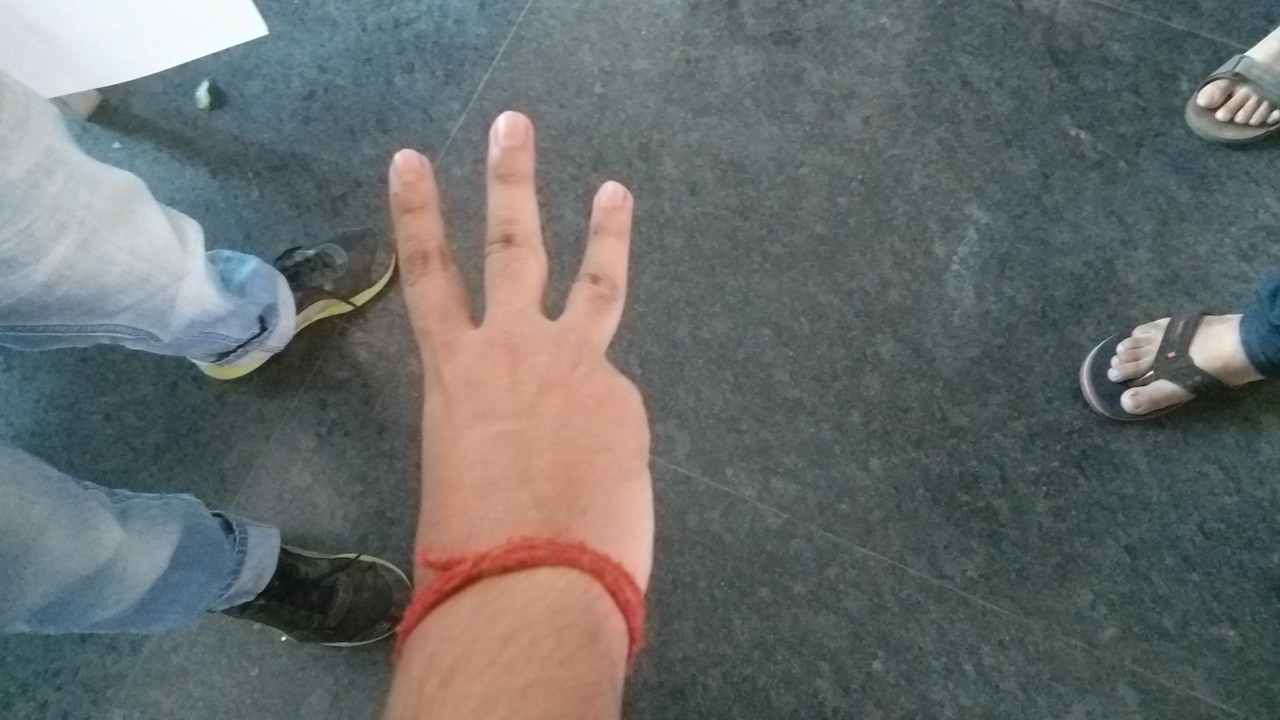fingertip: (378, 144, 438, 196), (580, 170, 640, 222), (476, 106, 538, 156)
